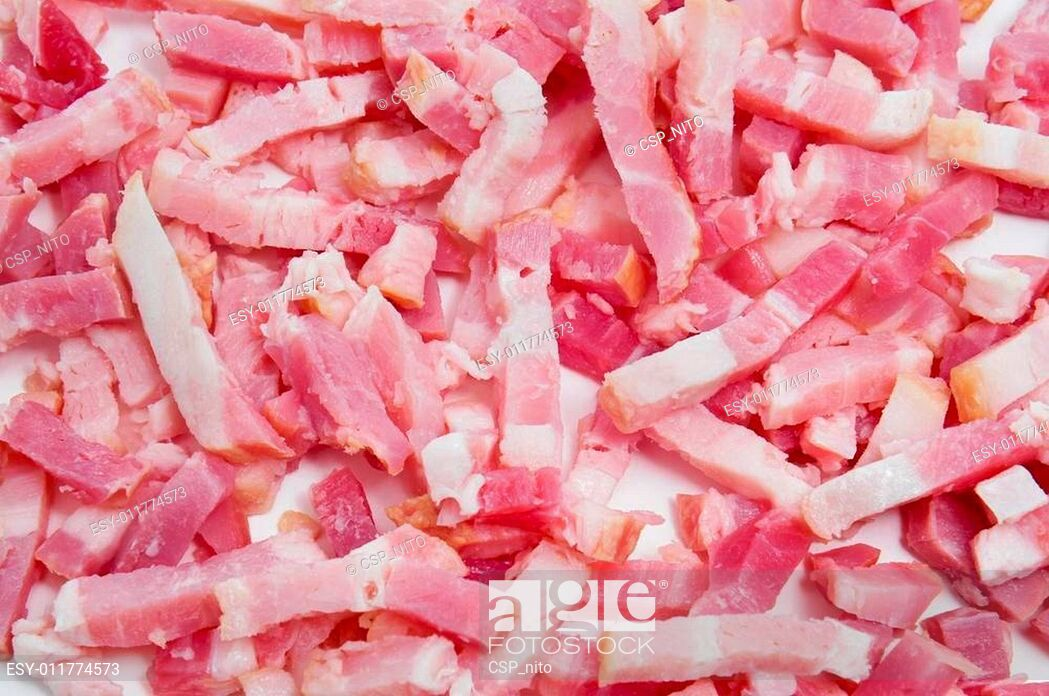bacon: (74, 37, 983, 689)
